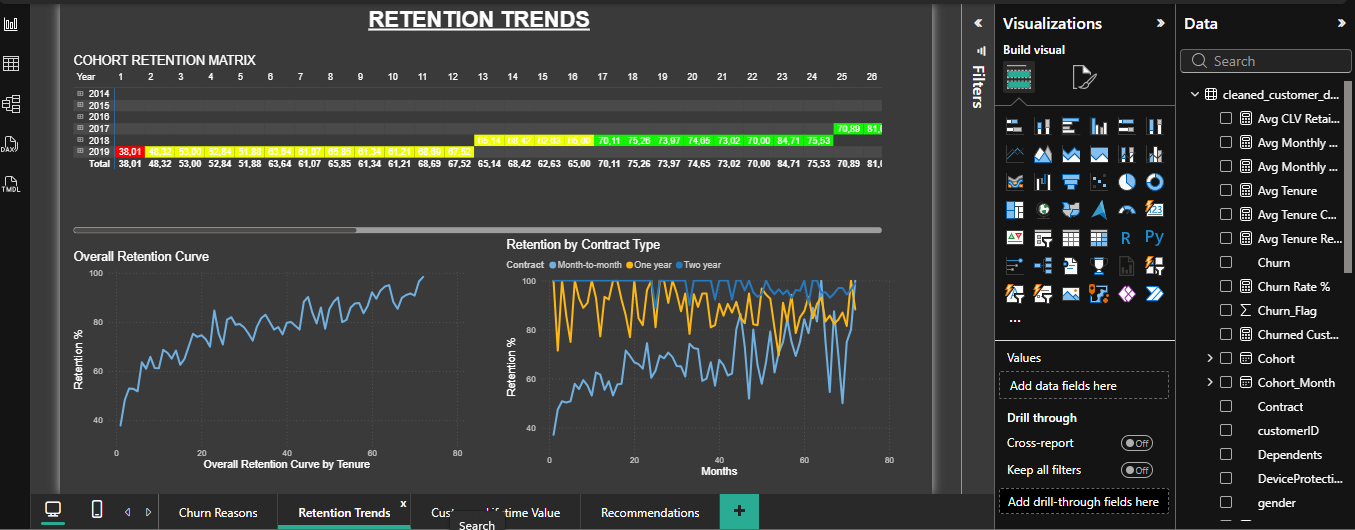

This screenshot's page, from the dashboard's own definition file:
{"tool":"powerbi","page":{"name":"Retention Trends","canvas":[1280,720],"ordinal":1},"visuals":[{"type":"textbox","box":[448.1,0,548.2,65.7],"z":0},{"type":"pivotTable","title":"COHORT RETENTION MATRIX","fields":{"Rows":["cleaned_customer_data.Cohort.Variation.Date Hierarchy.Year","cleaned_customer_data.Cohort.Variation.Date Hierarchy.Quarter","cleaned_customer_data.Cohort.Variation.Date Hierarchy.Month","cleaned_customer_data.Cohort.Variation.Date Hierarchy.Day"],"Columns":["cleaned_customer_data.tenure"],"Values":["cleaned_customer_data.Retention %"]},"box":[14.9,71.7,1198,270.4],"z":1000},{"type":"lineChart","title":"Overall Retention Curve","fields":{"Category":["cleaned_customer_data.tenure"],"Y":["cleaned_customer_data.Retention %"]},"box":[14.9,360,584.1,330.1],"z":2000},{"type":"lineChart","title":"Retention by Contract Type","fields":{"Category":["cleaned_customer_data.tenure"],"Y":["cleaned_customer_data.Retention %"],"Series":["cleaned_customer_data.Contract"]},"box":[651.3,342.1,582.6,358.5],"z":3000}]}

Visuals, with their boxes on the page's 1280x720 design canvas (x1, y1, x2, y2). These are canvas units, not pixel positions in the 1355x530 screenshot, which may show the page scaled, cropped or inside an application window:
textbox: <bbox>448, 0, 996, 66</bbox>
"COHORT RETENTION MATRIX" pivotTable: <bbox>15, 72, 1213, 342</bbox>
"Overall Retention Curve" lineChart: <bbox>15, 360, 599, 690</bbox>
"Retention by Contract Type" lineChart: <bbox>651, 342, 1234, 701</bbox>
